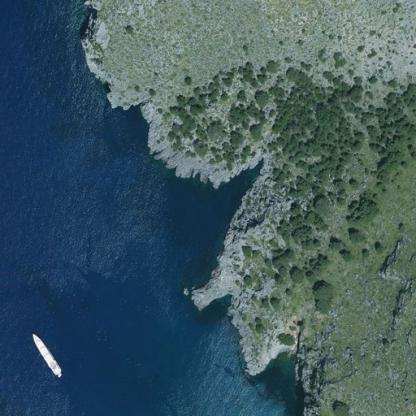ship: (27, 331, 65, 379)
